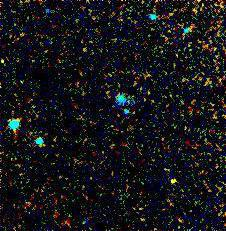star: (163, 165, 193, 195)
